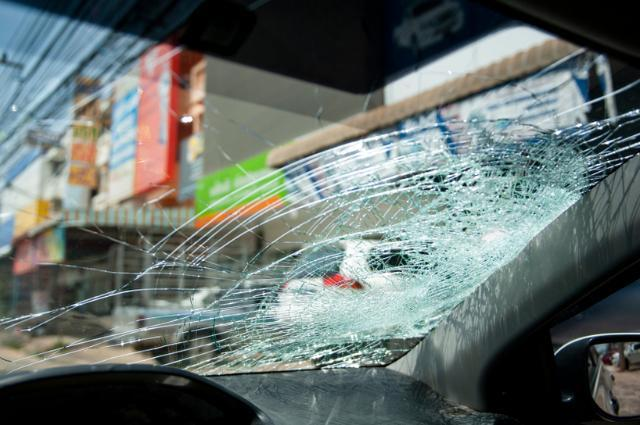Windshield: (2, 1, 640, 362)
